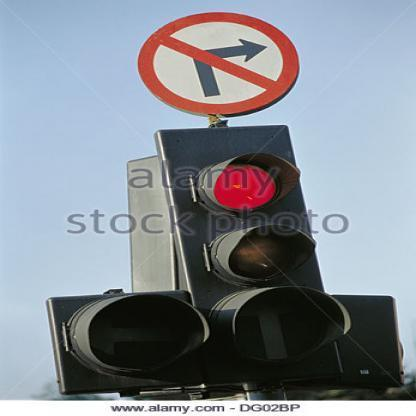Red Light: (162, 132, 342, 383)
